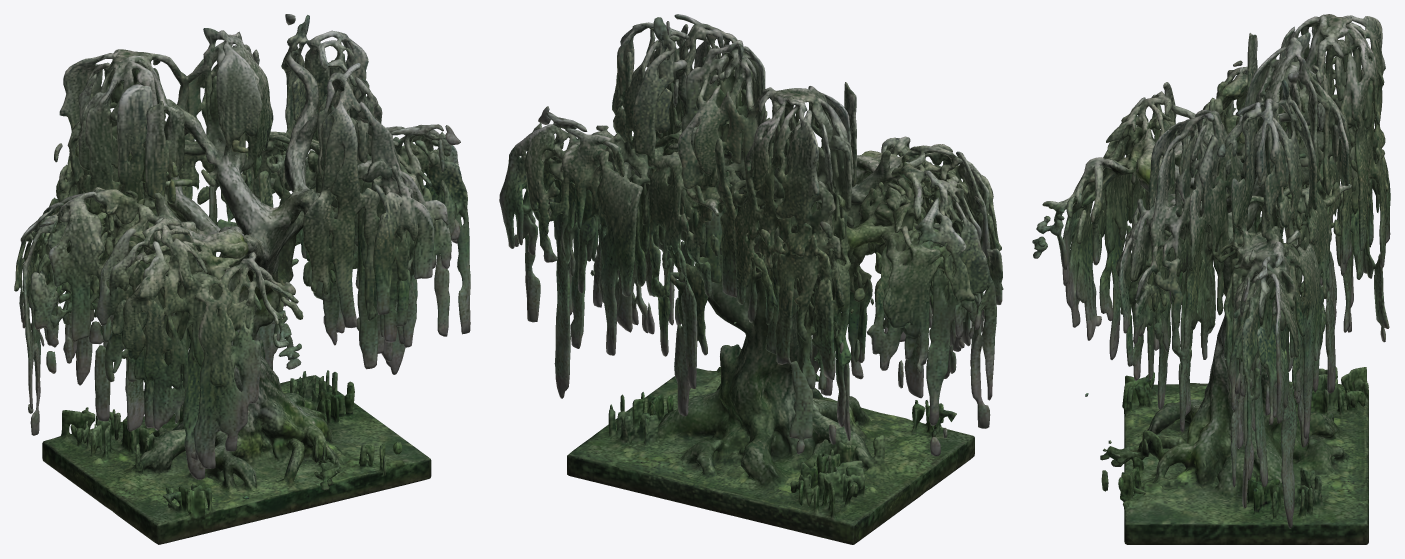
Rendered from arbol_del_pantano_completo.glb.
3 views of the same model, side by side, from view 1: azimuth 30°, elevation 25°; view 2: azimuth 150°, elevation 25°; view 3: azimuth 270°, elevation 25° (orthographic). The views are drawn at different scales.
Visible parts, largest first — view 1: world; view 2: world; view 3: world.
Part boxes in pixels (<box>): world: <box>14,14,470,544</box>; world: <box>499,14,1003,544</box>; world: <box>1032,14,1390,544</box>.
Bounding box in the file's own units: 1 × 0.8811 × 0.6472.
Materials: 1 (1 with a texture image).
